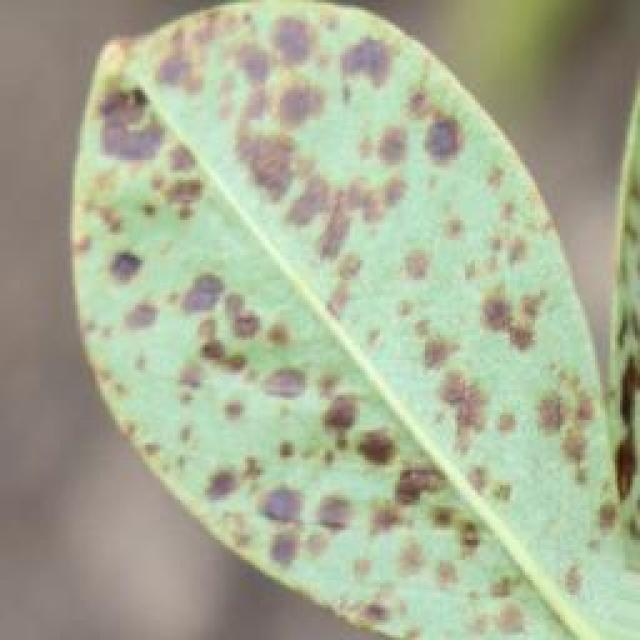Whitefly: (54, 0, 588, 620)
